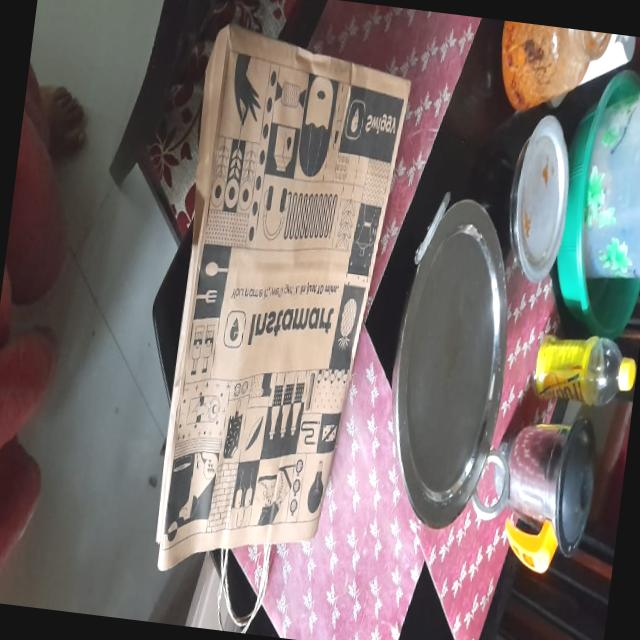Paper_Bag - Recyclable: (143, 19, 417, 594)
